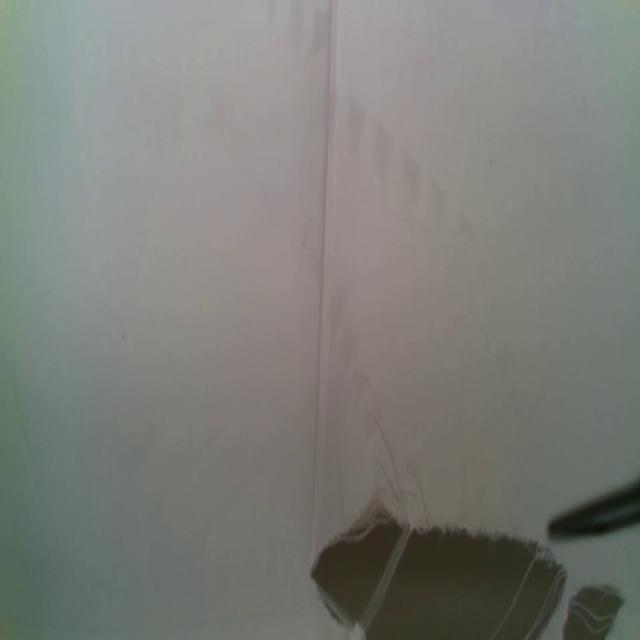crease: (310, 0, 339, 533)
hole: (309, 496, 548, 640), (562, 581, 626, 639)
